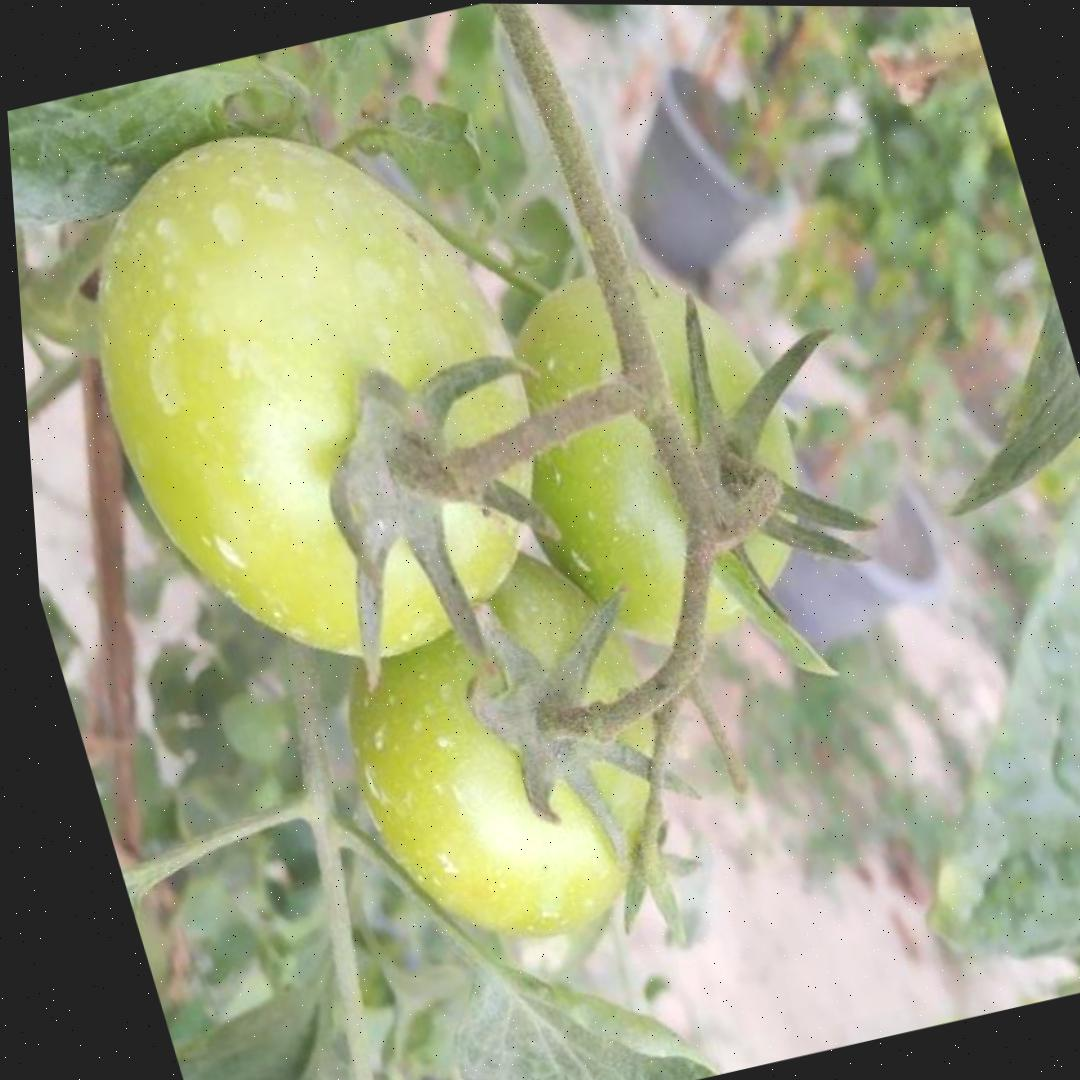mentah: (32, 80, 604, 705), (291, 512, 718, 972), (454, 232, 848, 667)
